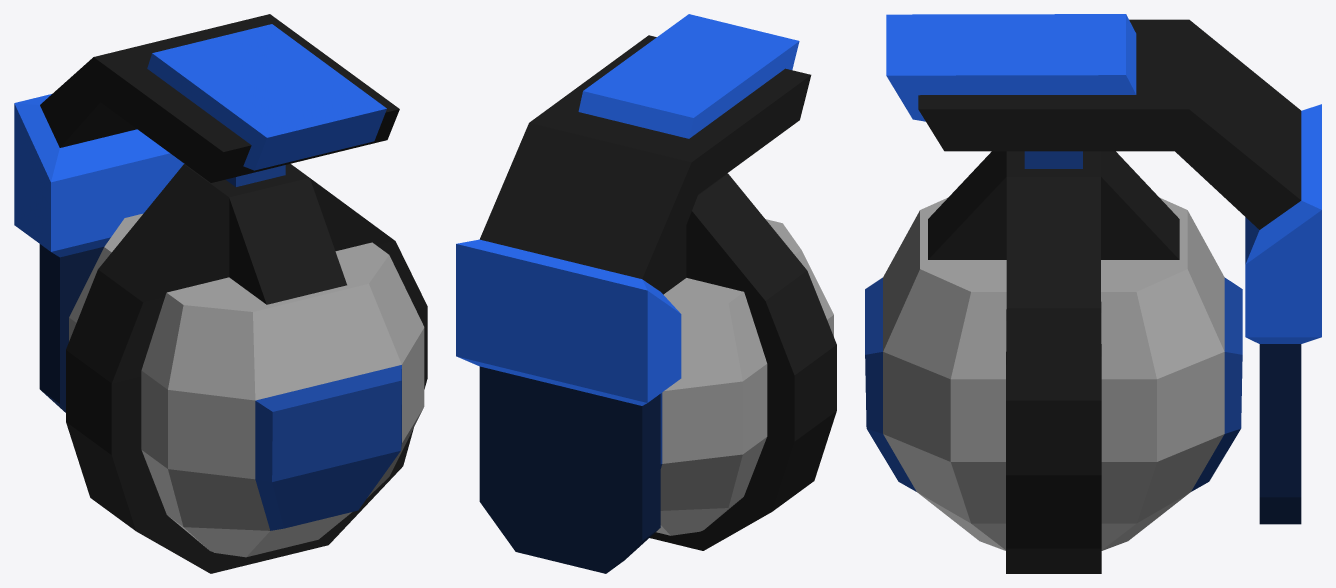
File: GrenadeMesh.fbx
3 renders of one model, left to right at view 1: azimuth 30°, elevation 25°; view 2: azimuth 150°, elevation 25°; view 3: azimuth 270°, elevation 25°, orthographic. The views are drawn at different scales.
Parts seen in each view (by area): view 1: Grenade; view 2: Grenade; view 3: Grenade.
Boxes of the visible parts, box(x1,y1,x2,y2) form: Grenade: box(14, 14, 427, 573); Grenade: box(456, 14, 836, 573); Grenade: box(865, 14, 1321, 573).
Bounding box in the file's own units: 19.27 × 23.14 × 27.92.
